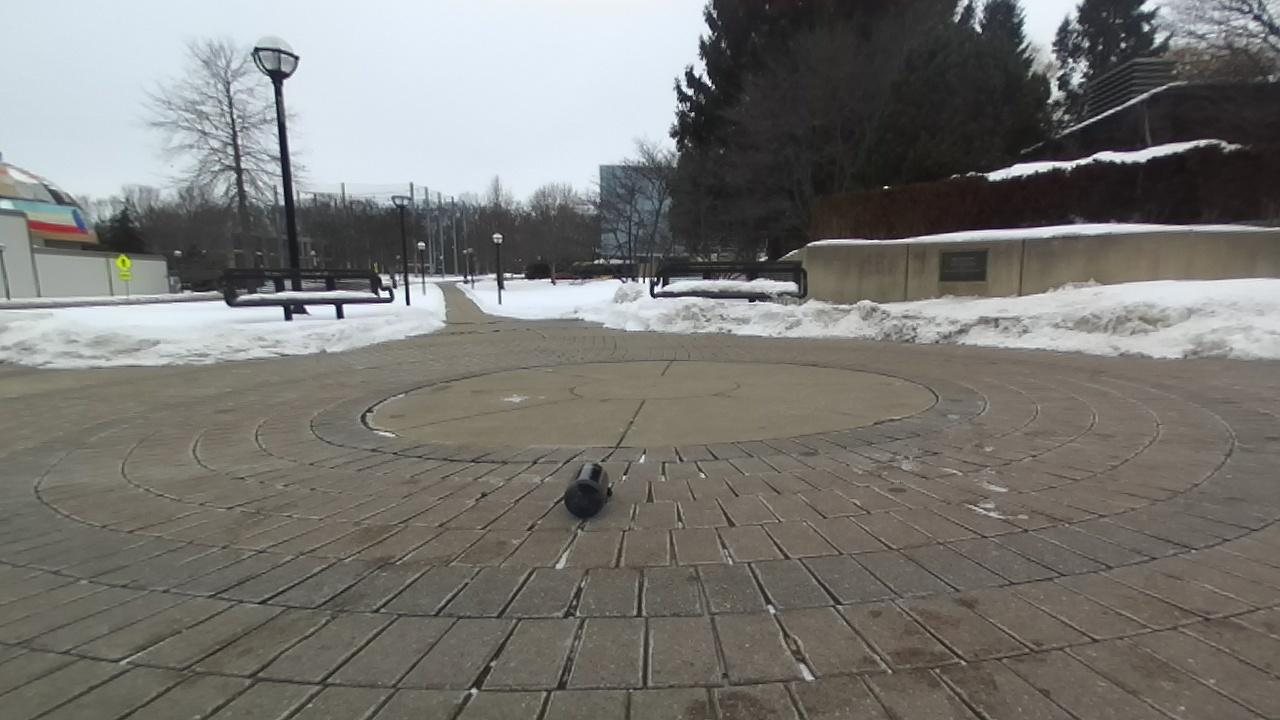bottle: (563, 463, 611, 518)
